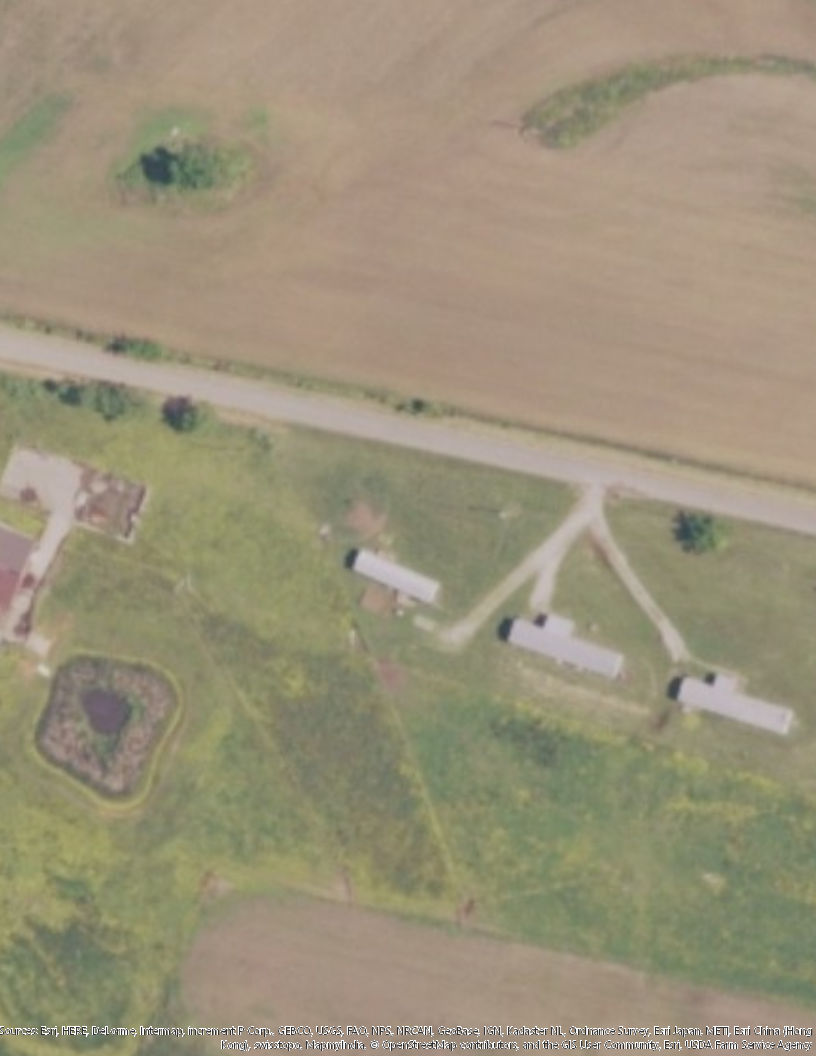cafo: (670, 662, 801, 740), (506, 607, 627, 684), (348, 545, 443, 610)
